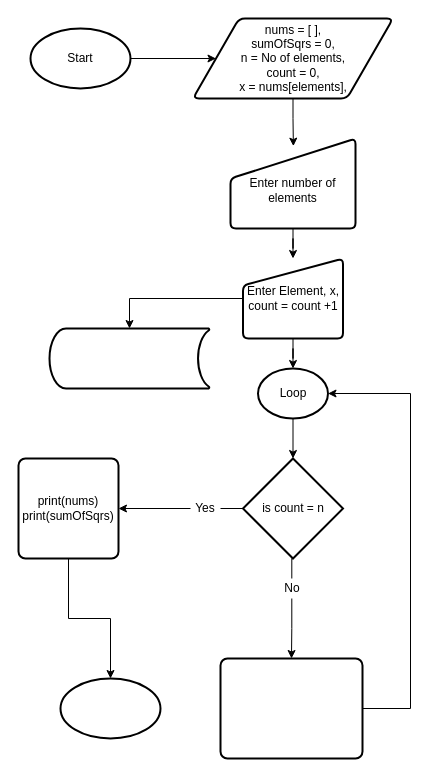
Image size: 436x776. Some labels were removed from this diagram. The shapes that lost their labels are listed below. From the top down, each one's centre as x and y in pixels, then its label:
At [129,358]: "nums = [x...xn]".
At [110,708]: "End".
At [291,708]: "sumOfSqrs = sumOfSqrs + sum(element ** 2)".
